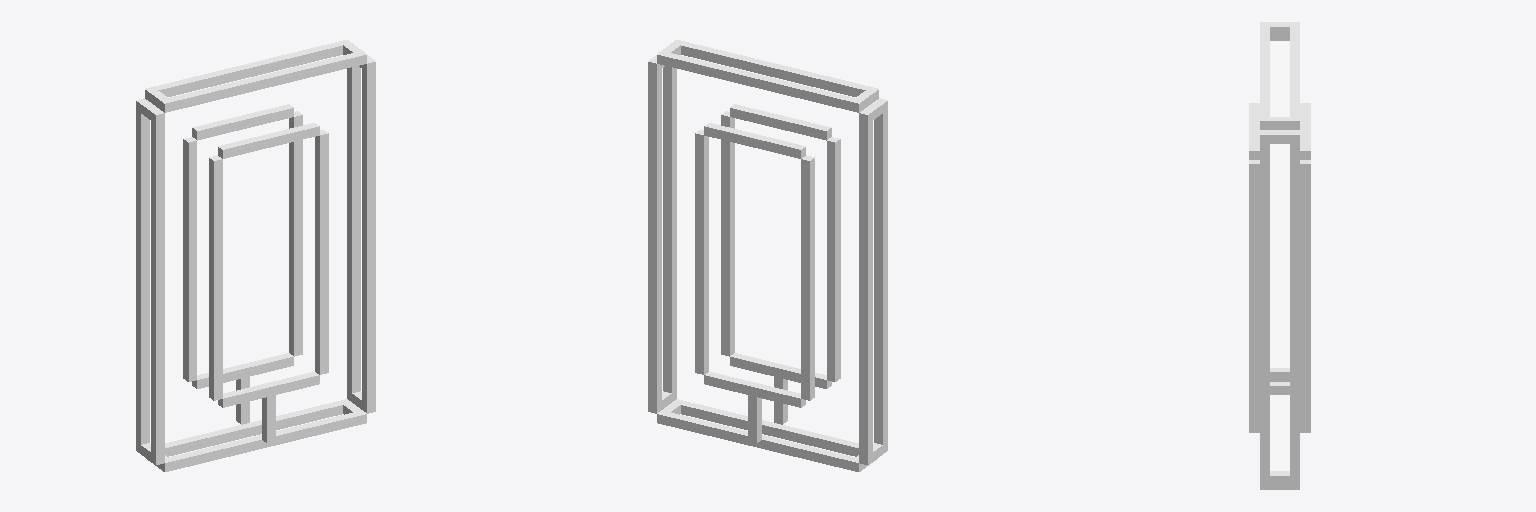
File: metaldoorlights.obj
The picture shows the model from 3 angles: view 1: azimuth 30°, elevation 25°; view 2: azimuth 150°, elevation 25°; view 3: azimuth 270°, elevation 25°; orthographic projection.
Visible parts, largest first — view 1: object 1; view 2: object 1; view 3: object 1.
Part boxes in pixels (x1,y1,x2,y2): object 1: (136,40,375,471); object 1: (648,40,887,471); object 1: (1249,22,1310,489).
Size of the model in its own units: 2.5 by 4 by 0.6.